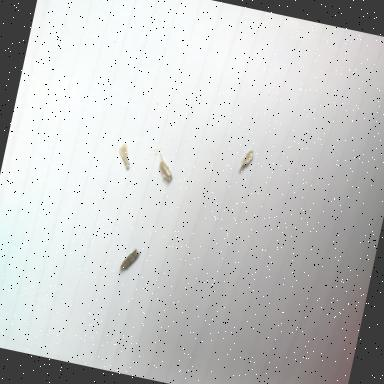pbw: (153, 151, 176, 183), (118, 245, 140, 274), (115, 142, 134, 170), (238, 146, 254, 174)
